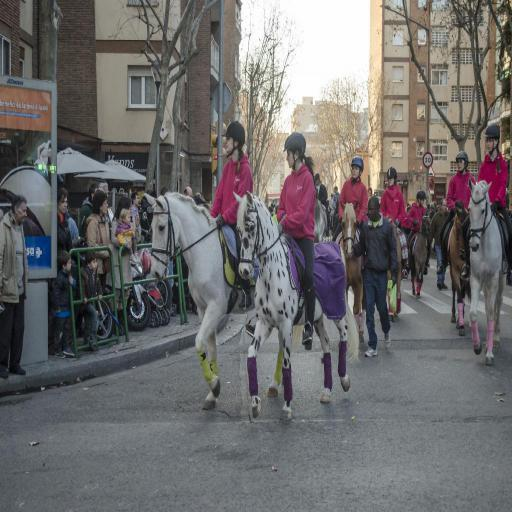horse: (146, 190, 284, 412), (234, 189, 362, 422), (466, 174, 512, 364), (334, 200, 368, 345), (444, 199, 470, 335), (407, 208, 433, 298), (386, 220, 408, 321), (314, 197, 330, 240)
